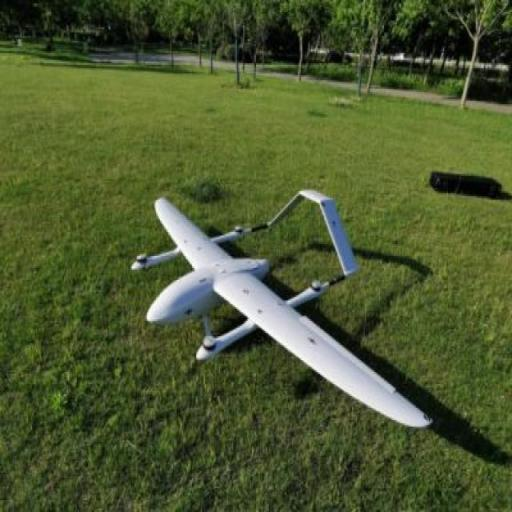uav: (138, 183, 447, 439)
